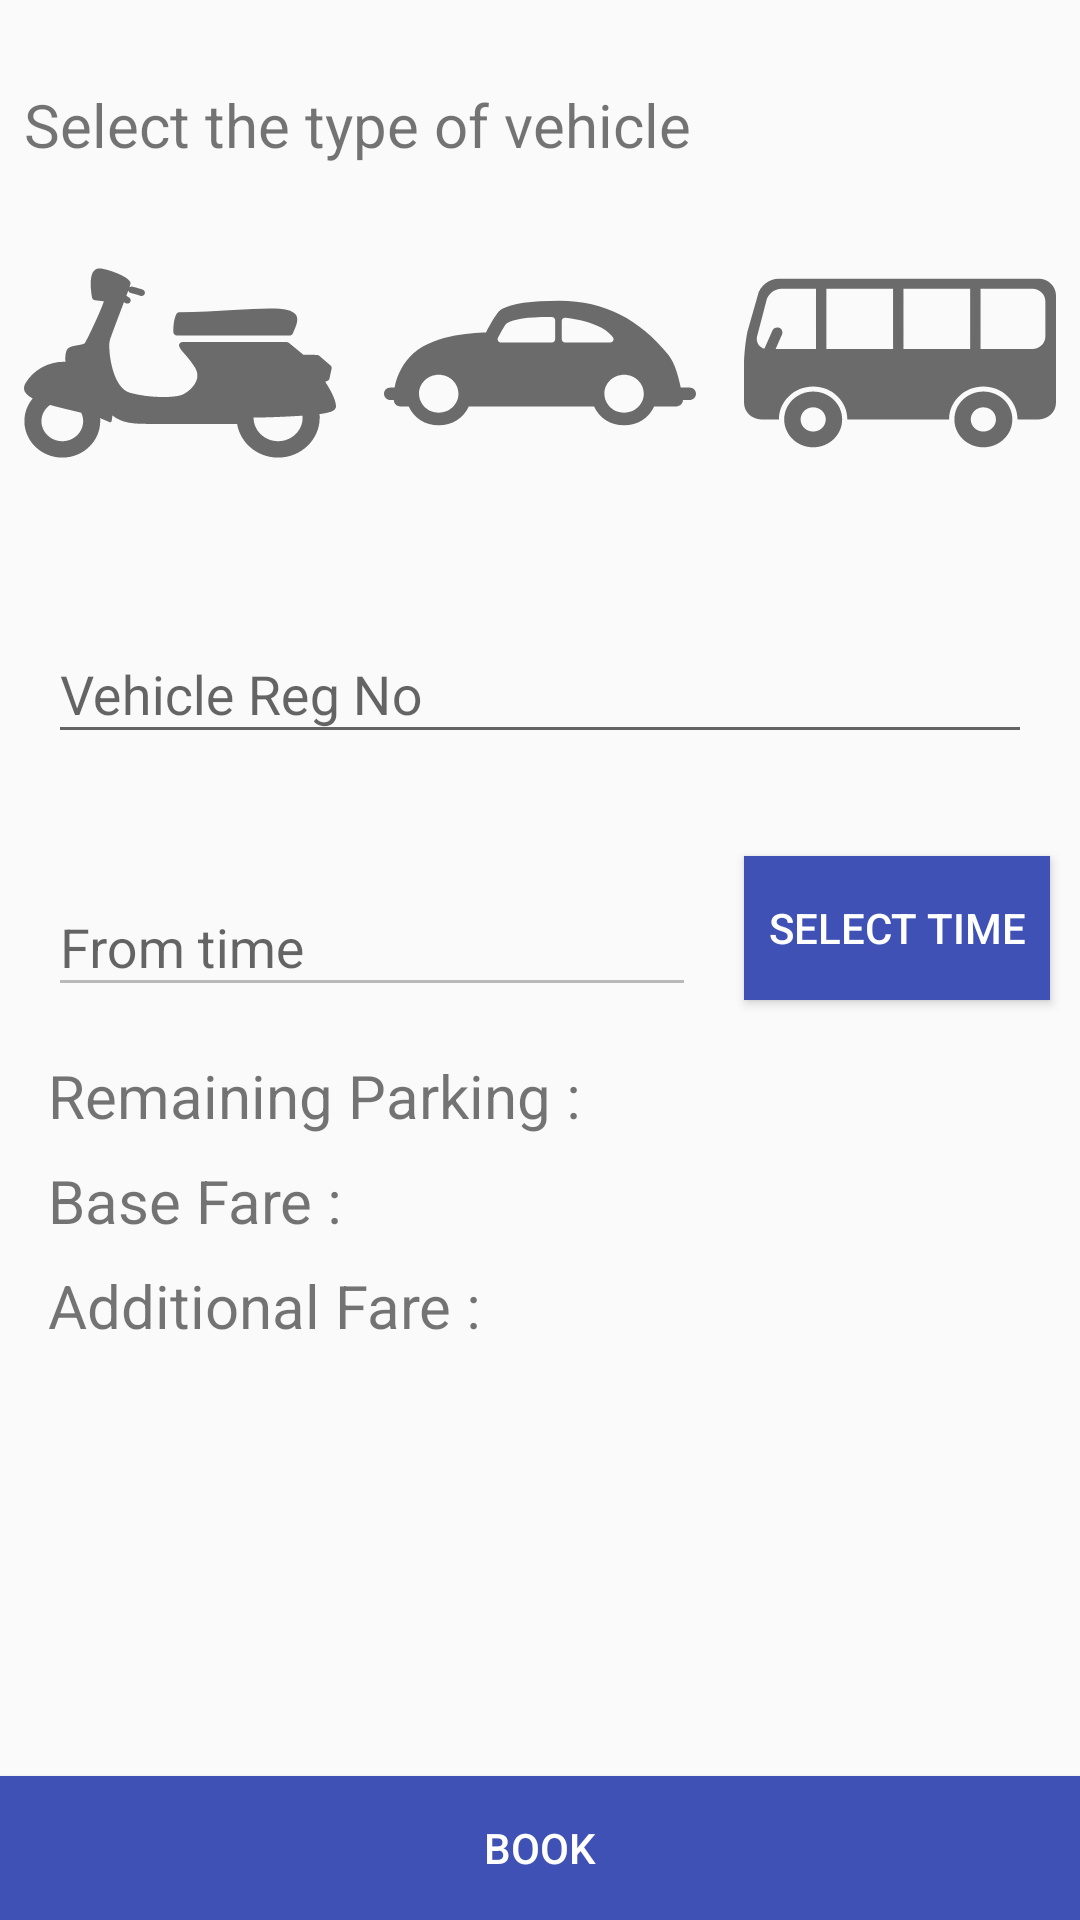

Icon click points for this 1080x1920 phone screenshot, format (x,y):
bike: (180,363)
bus: (900,363)
car: (540,363)
